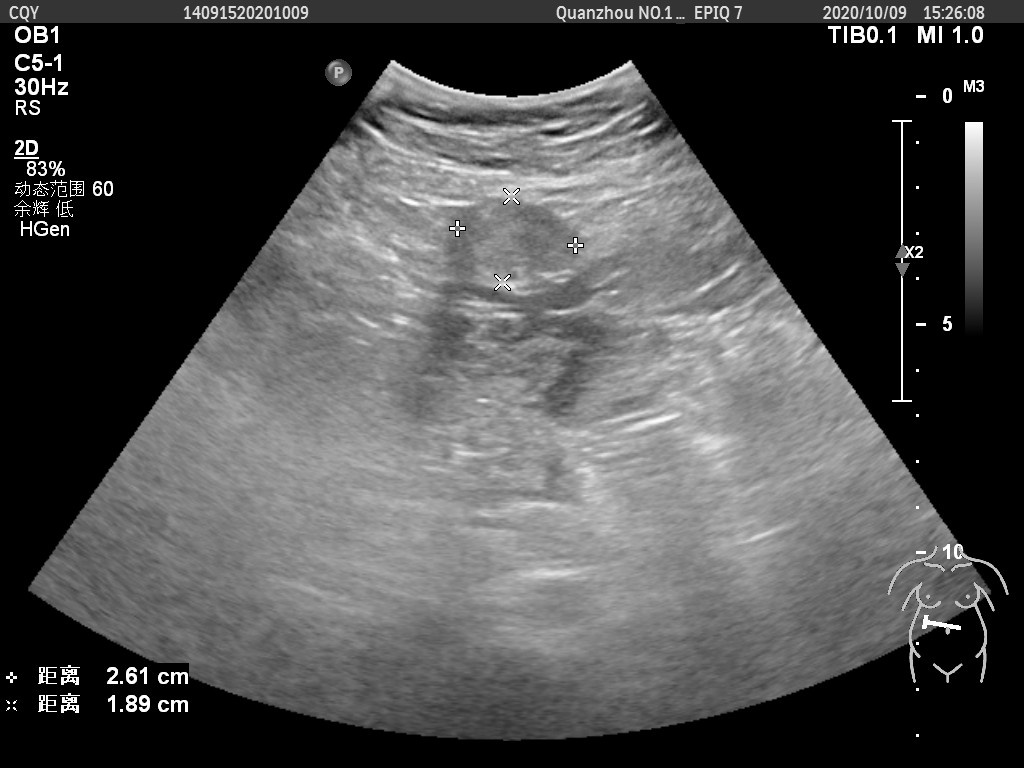肌瘤: (458, 195, 577, 280)
